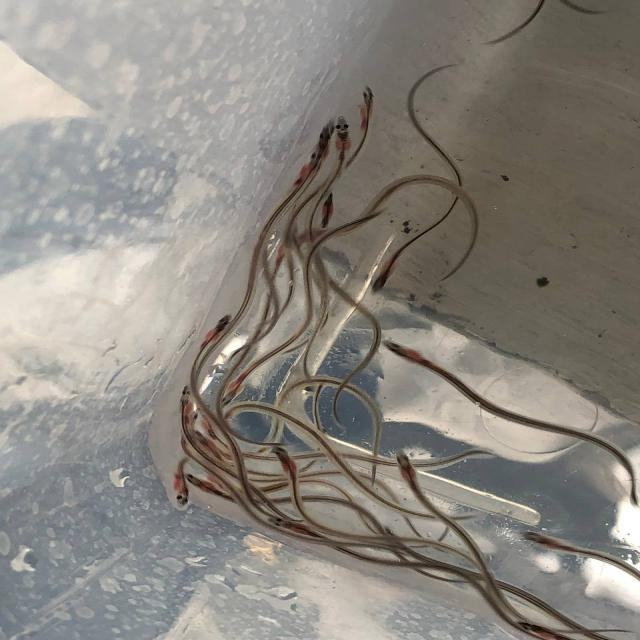glass_eel: (514, 528, 570, 550), (295, 147, 327, 184), (367, 260, 398, 298), (380, 341, 426, 366), (510, 619, 562, 640), (394, 448, 422, 484), (268, 448, 304, 476), (201, 313, 235, 342), (265, 516, 316, 535), (356, 85, 379, 126), (331, 114, 355, 152), (307, 120, 332, 152), (184, 473, 218, 496), (221, 378, 246, 406), (172, 475, 191, 507), (192, 429, 217, 453), (320, 193, 337, 223), (178, 385, 194, 416), (198, 408, 214, 433), (188, 410, 200, 428)
